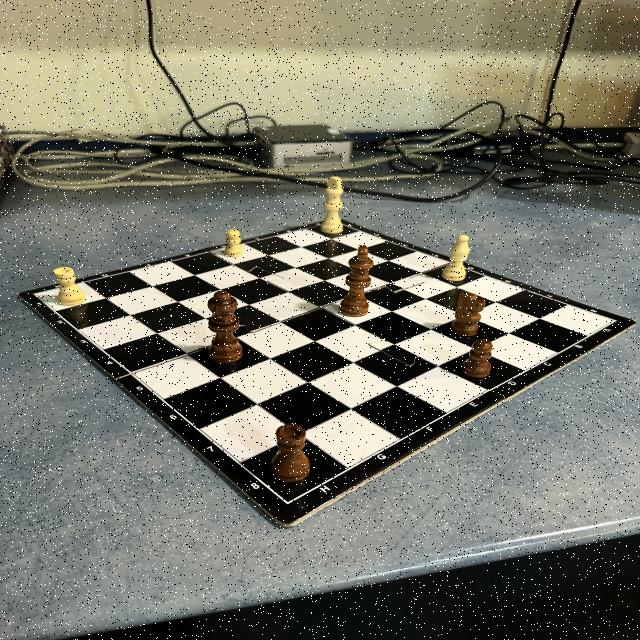Black-King: (342, 245, 374, 316)
Black-Knight: (452, 290, 484, 336)
Black-Pawn: (464, 338, 492, 380)
Black-Queen: (208, 292, 242, 364)
Black-Rook: (270, 422, 309, 484)
White-Bishop: (443, 234, 471, 283)
White-King: (321, 176, 343, 236)
White-Pawn: (225, 228, 243, 258)
White-Rook: (54, 267, 83, 305)
